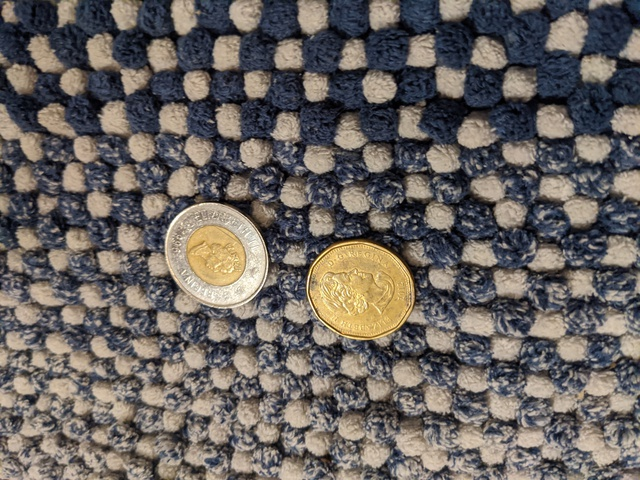loonie: (297, 236, 413, 342)
twonie: (162, 200, 270, 316)
